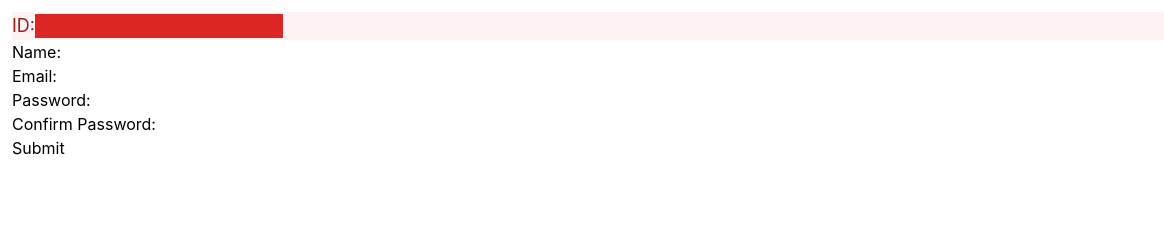
Test: SignupForm › validates password confirmation
Type "validpass123" into the password field labelled "Password:".
click(215, 100); type("validpass123")  # box [91,88,339,112]
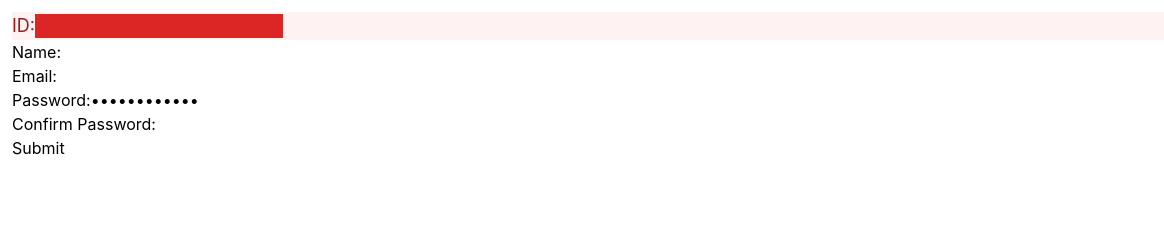
Type "differentpass123" into the password field labelled "Confirm Password:".
click(280, 124); type("differentpass123")  # box [156,112,404,136]
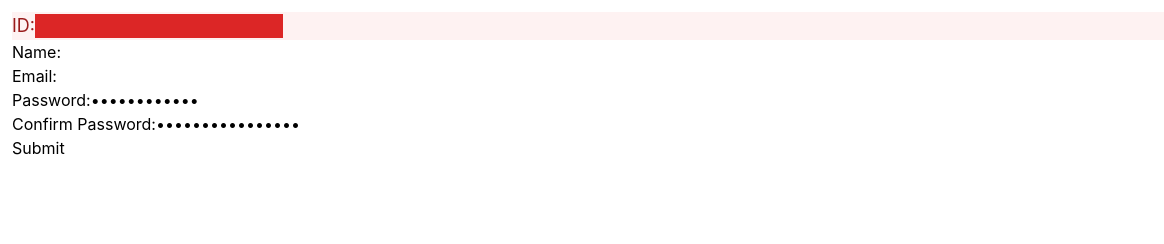
Click the button "Submit".
click(38, 148)  # box [12,136,65,160]
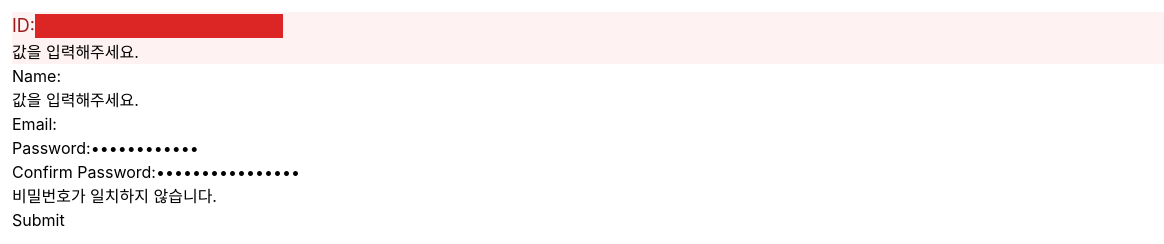
Expected: the text "비밀번호가 일치하지 않습니다." is shown, [12,186,217,206]
